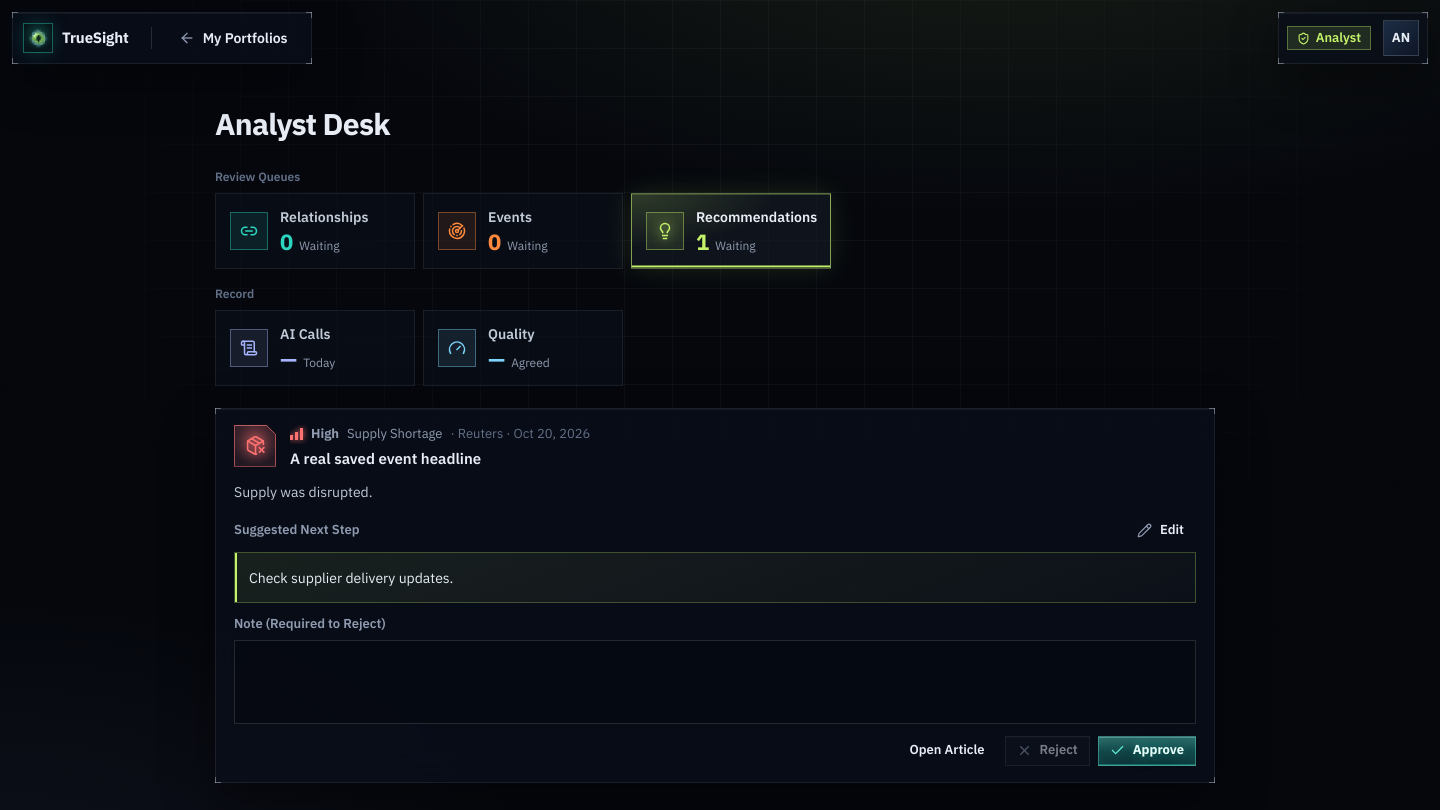
Test: Analyst Desk › lists pending recommendations and supports editing before approval
Expected: the heading "A real saved event headline" is shown, x1=290 y1=448 x2=481 y2=468
Expected: the text "Check supplier delivery updates." is shown, x1=249 y1=569 x2=453 y2=587
Click the button "Edit" at (1161, 531), box x1=1125 y1=516 x2=1196 y2=546
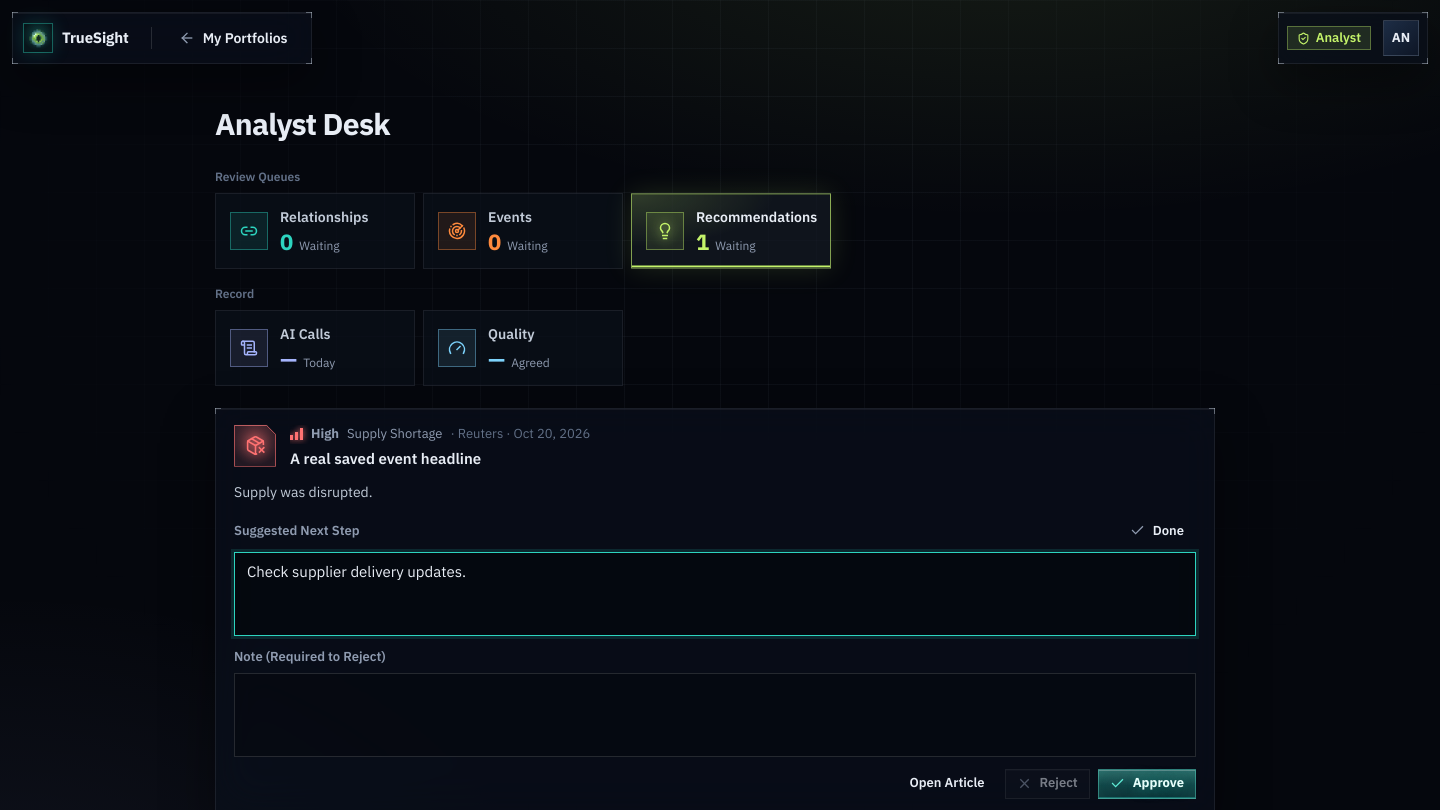
Replace the text in the text box labelled "Suggested Next Step" with "Check the supplier delivery updates." at (715, 594), box x1=234 y1=552 x2=1196 y2=636
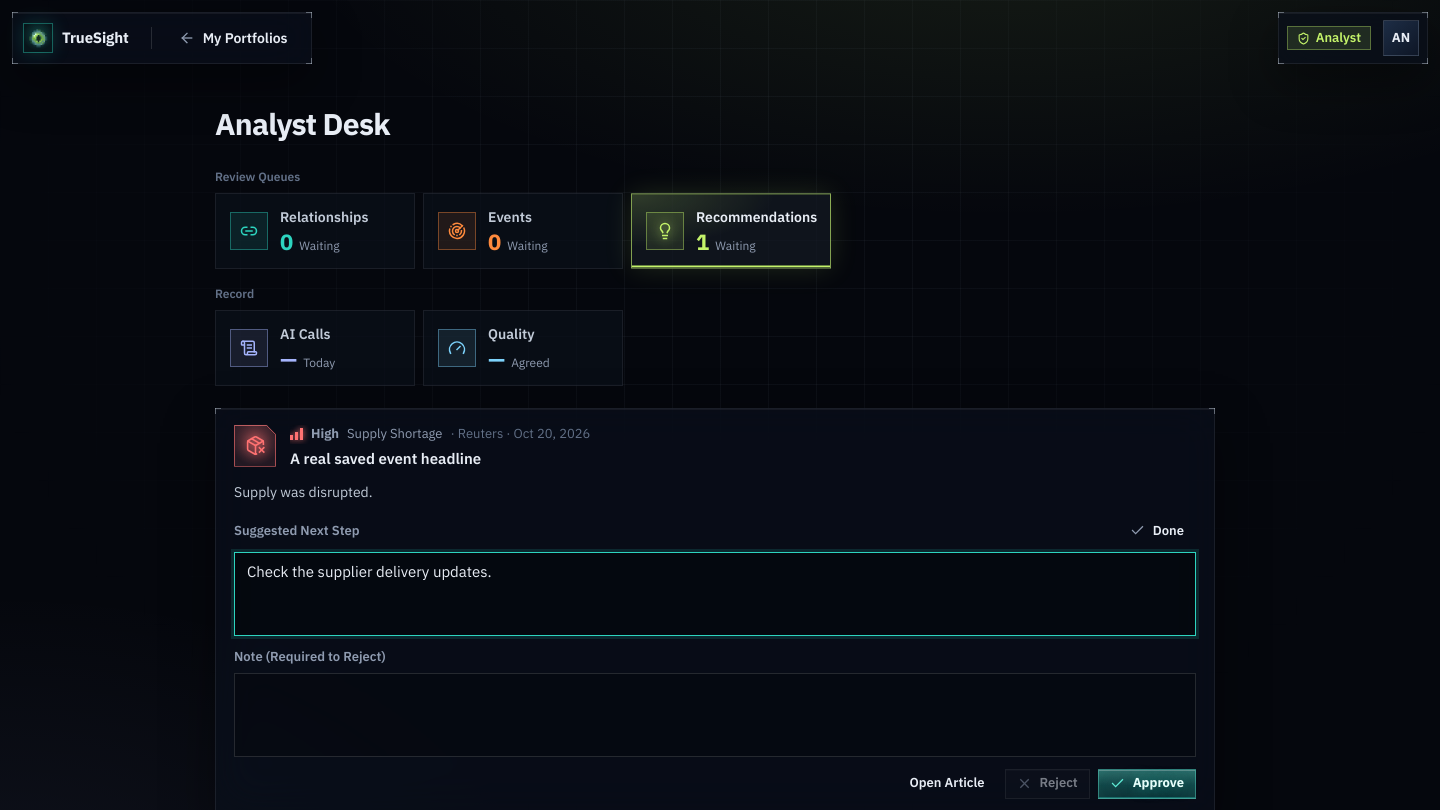
Click the button "Approve" at (1147, 783), box x1=1098 y1=768 x2=1196 y2=798
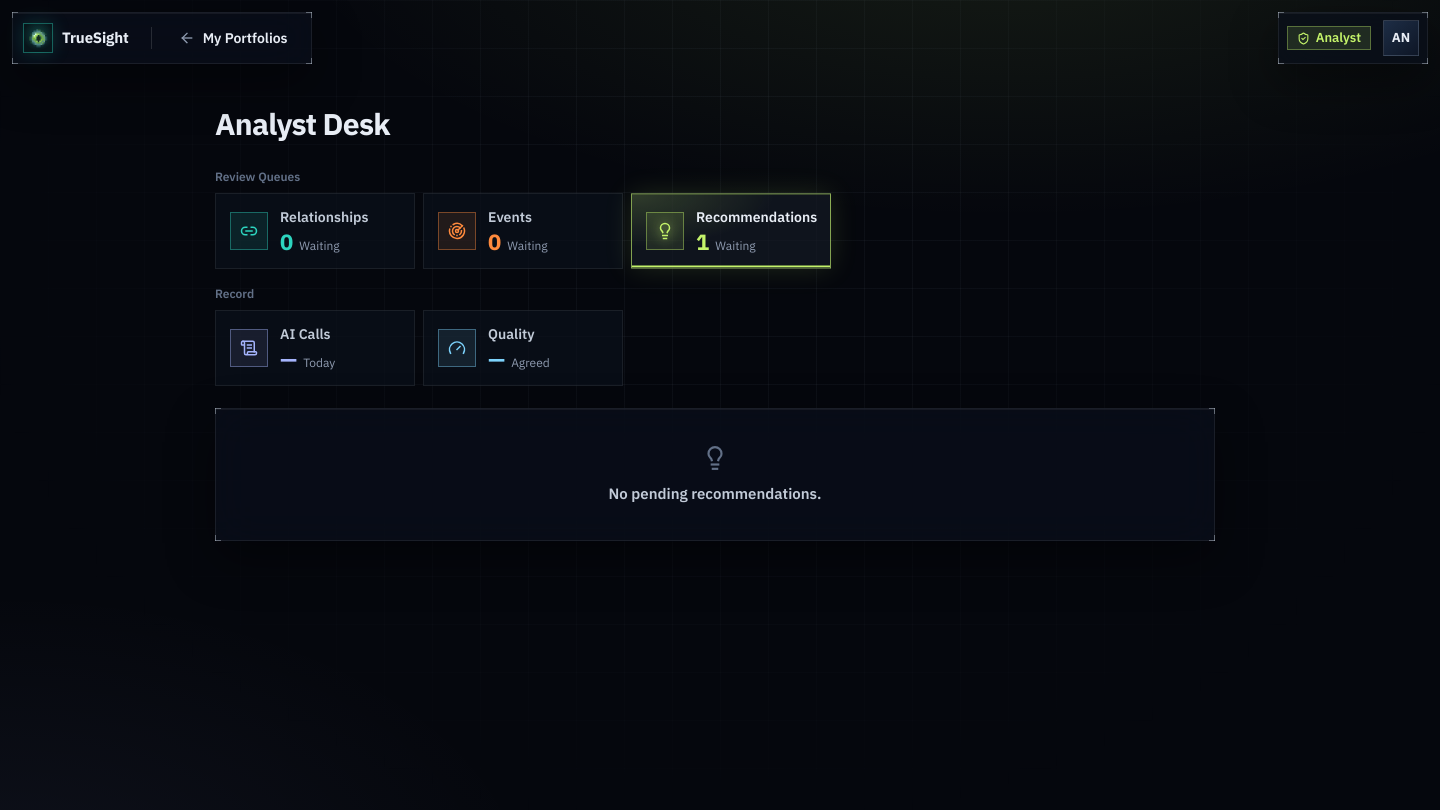
Expected: the text "No pending recommendations." is shown, x1=215 y1=408 x2=1215 y2=542
